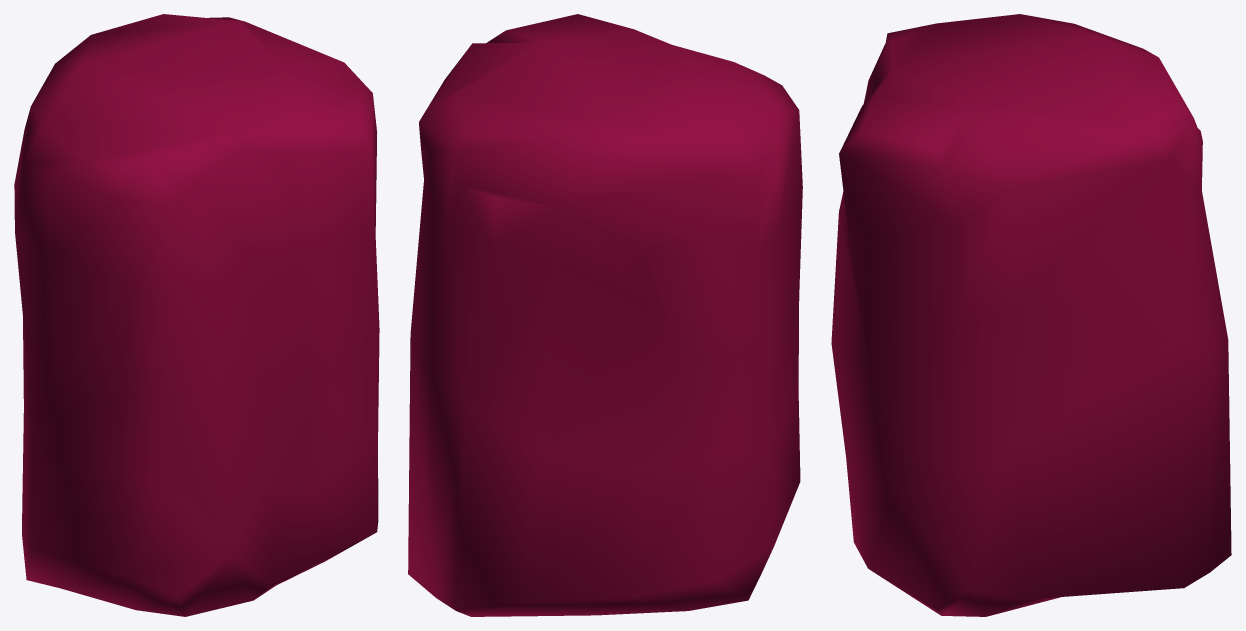
The model's file is stone_01.FBX.
3 views of the same model, side by side, from view 1: azimuth 30°, elevation 25°; view 2: azimuth 150°, elevation 25°; view 3: azimuth 270°, elevation 25° (orthographic). The views are drawn at different scales.
Visible parts, largest first — view 1: stone_01; view 2: stone_01; view 3: stone_01.
Boxes of the visible parts, x1=… form: stone_01: x1=14, y1=14, x2=379, y2=616; stone_01: x1=408, y1=14, x2=802, y2=616; stone_01: x1=831, y1=14, x2=1231, y2=616.
Bounding box in the file's own units: 55.43 × 77.48 × 57.49.
